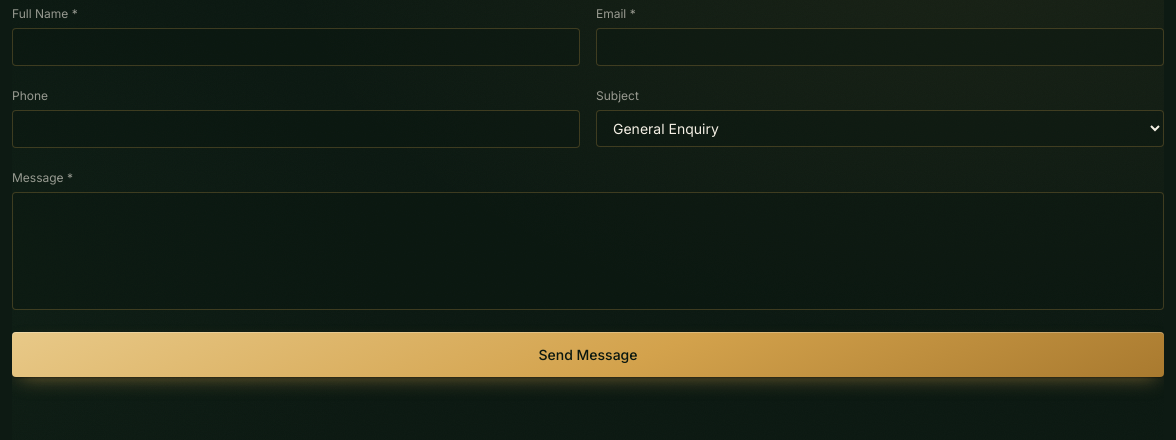
Test: ContactForm › shows the server's error message when the submission fails
Type "Jane Doe" into the field labelled "Full Name *".
click(296, 47); type("Jane Doe")  # box [12,28,580,66]
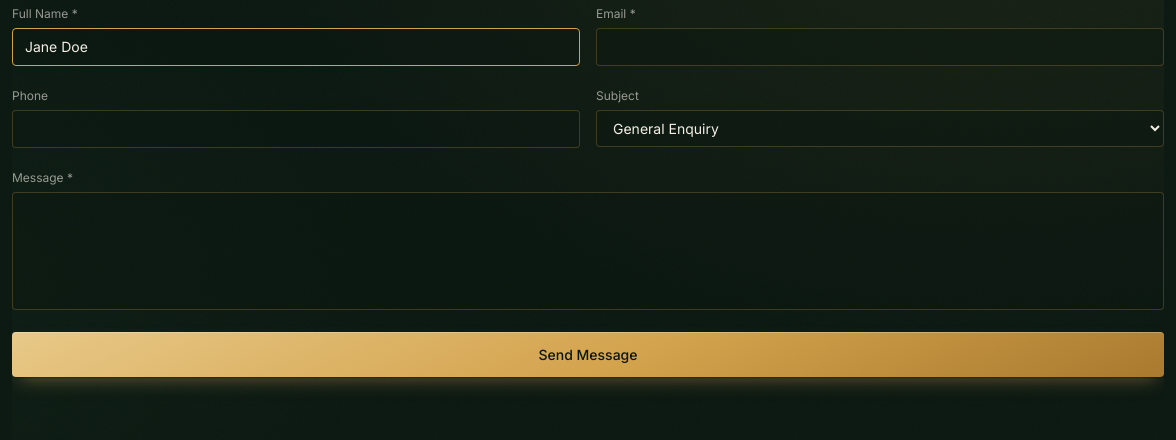
Type "jane@example.com" into the field labelled "Email *".
click(880, 47); type("jane@example.com")  # box [596,28,1164,66]
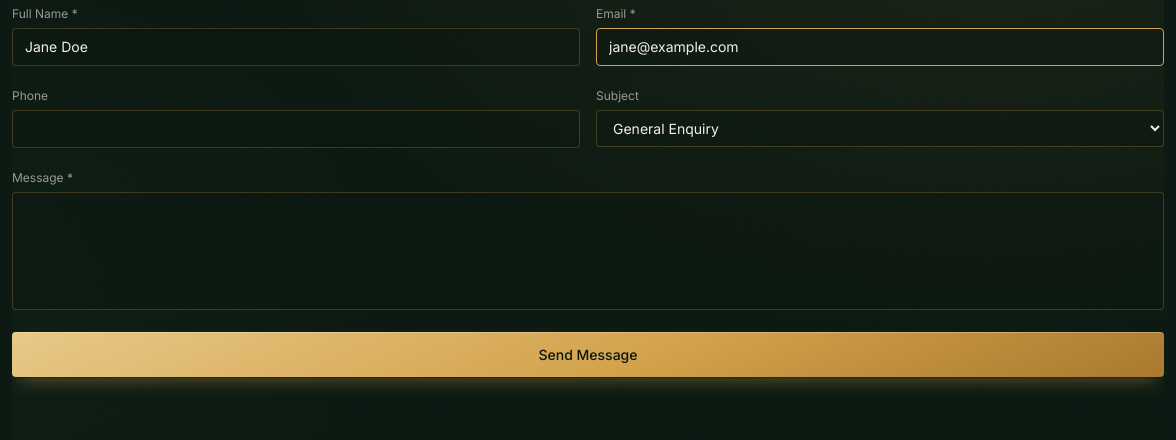
Type "Hello there" into the text box labelled "Message *".
click(588, 251); type("Hello there")  # box [12,192,1164,310]
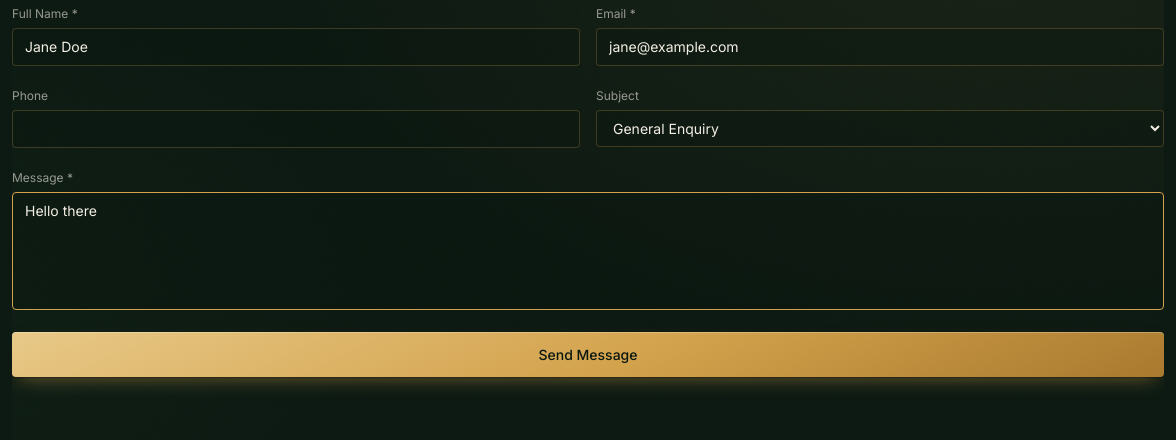
Click the button "Send Message".
click(588, 354)  # box [12,332,1164,377]
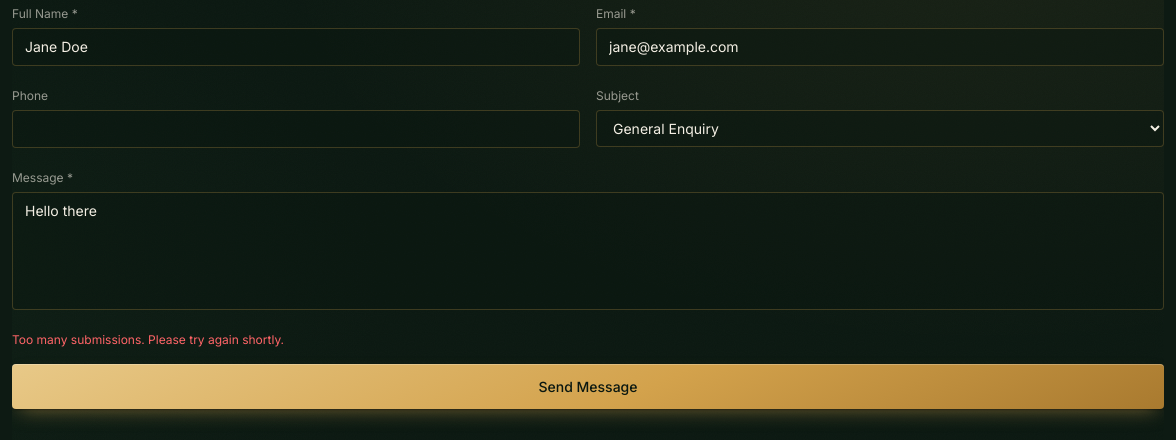
Expected: the text "Too many submissions. Please try again shortly." is shown, [12,332,284,347]
